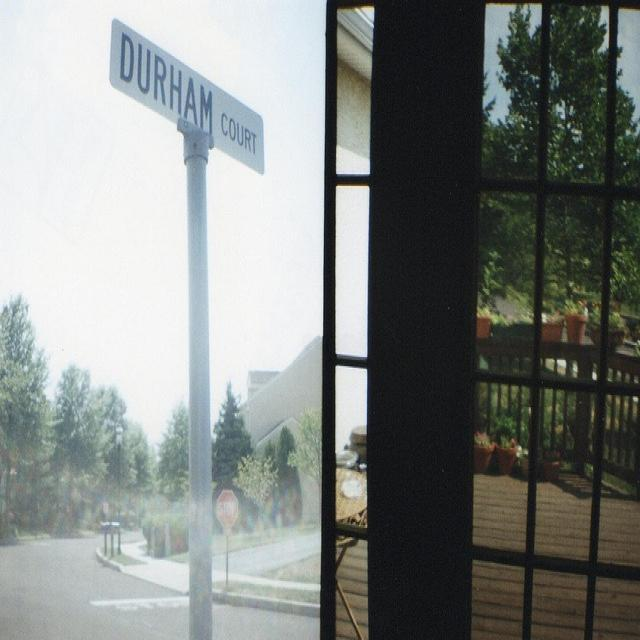pole: (175, 126, 218, 638), (223, 531, 229, 590)
